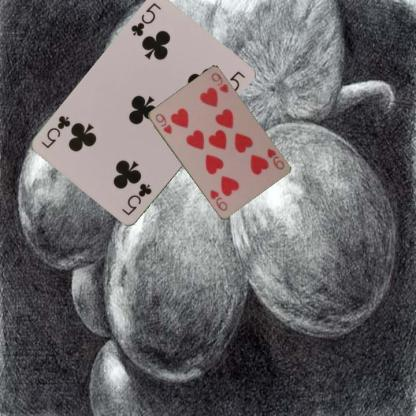5c: (128, 1, 162, 38), (119, 181, 153, 217)
9h: (264, 146, 285, 171), (152, 111, 172, 135)
